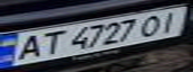2: (103, 19, 124, 47)
4: (66, 24, 90, 52)
7: (84, 21, 109, 50), (118, 16, 142, 43)
A: (9, 32, 48, 62)
I: (154, 8, 187, 34)
O: (136, 11, 169, 38)
T: (33, 29, 66, 57)
